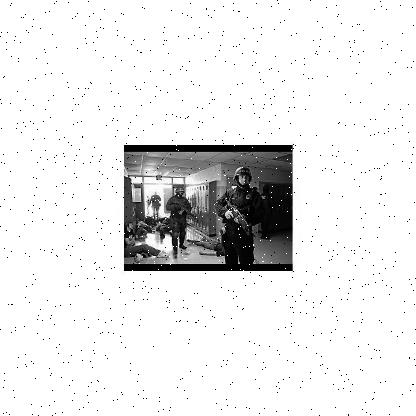gun: (217, 196, 253, 236), (168, 196, 196, 218)
